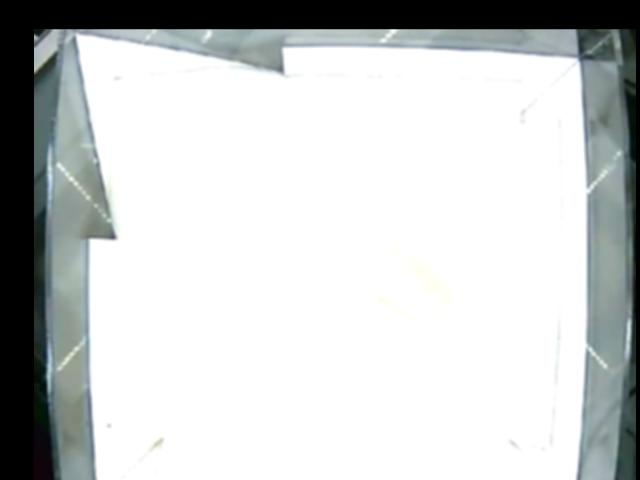Mooli: (331, 222, 451, 320)
